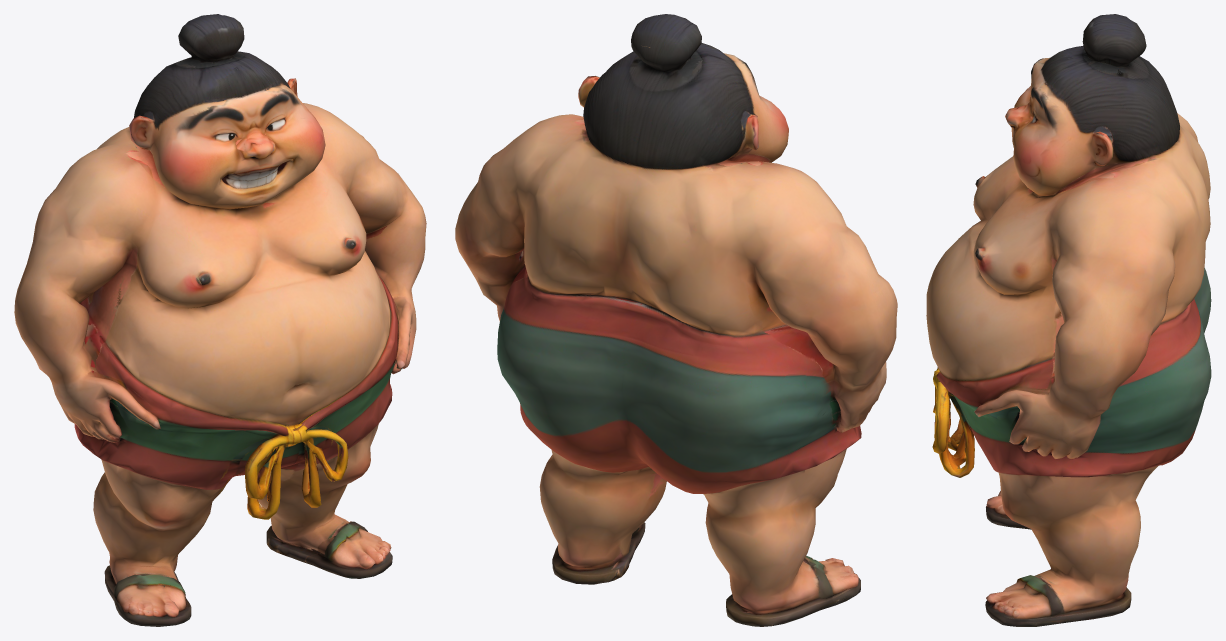
The model's file is sumoo.glb.
3 renders of one model, left to right at view 1: azimuth 30°, elevation 25°; view 2: azimuth 150°, elevation 25°; view 3: azimuth 270°, elevation 25°, orthographic. The views are drawn at different scales.
Bounding box in the file's own units: 1.53 × 2 × 0.9462.
1 material, 1 textured.
